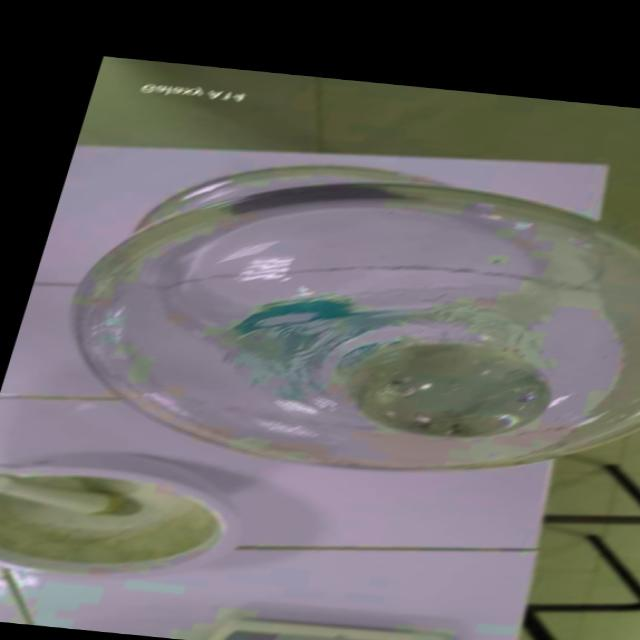Gas Bottle: (27, 137, 640, 495)
